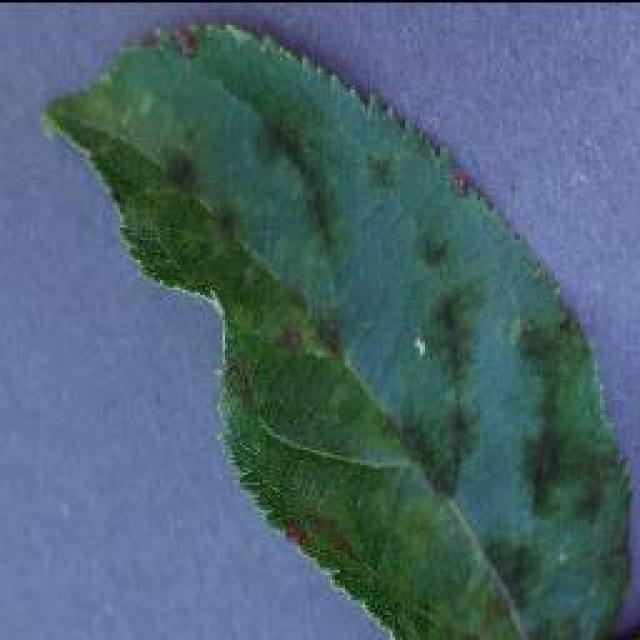apple scab disease: (40, 18, 638, 638)
